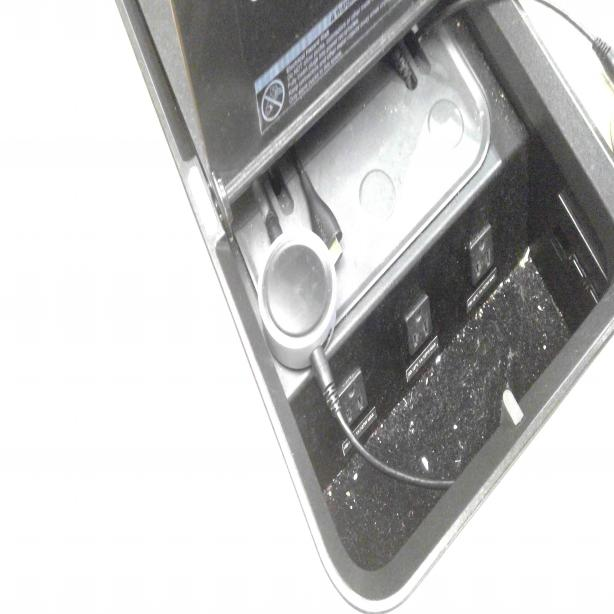typeb: (463, 221, 500, 292), (400, 294, 438, 355), (335, 374, 371, 426)
